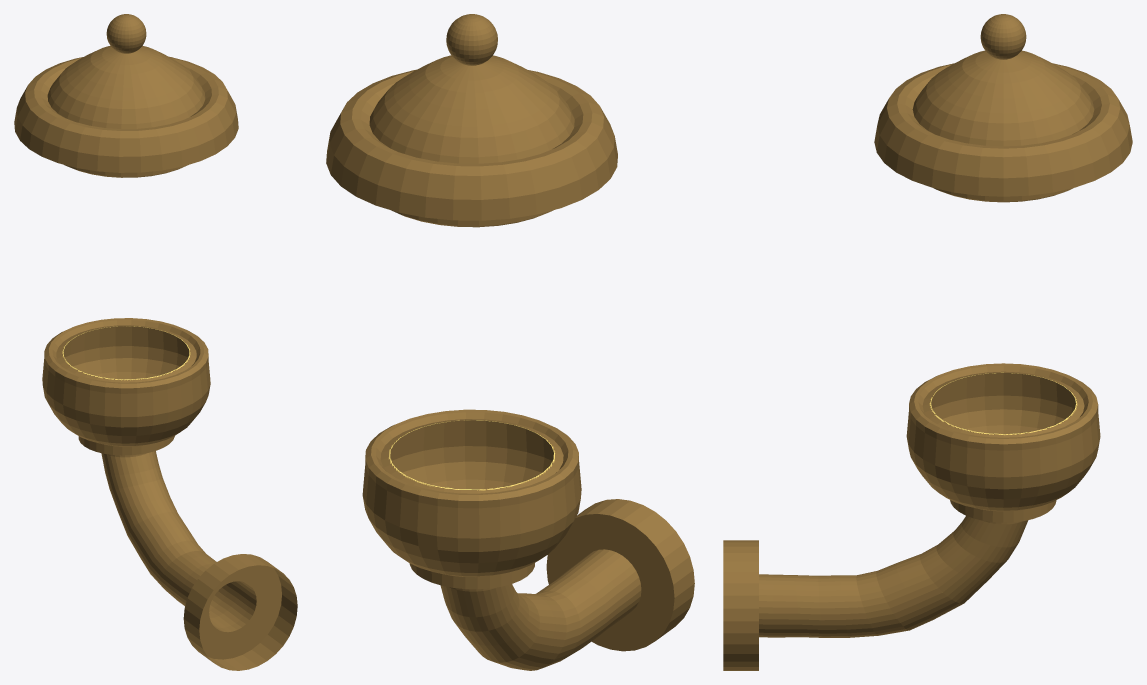
The model's file is LuzAntiga.fbx.
3 views of the same model, side by side, from view 1: azimuth 30°, elevation 25°; view 2: azimuth 150°, elevation 25°; view 3: azimuth 270°, elevation 25° (orthographic). The views are drawn at different scales.
Parts seen in each view (by area): view 1: LuzAntiga; view 2: LuzAntiga; view 3: LuzAntiga.
Boxes of the visible parts, <box> form: LuzAntiga: <box>14,14,297,670</box>; LuzAntiga: <box>326,14,694,670</box>; LuzAntiga: <box>723,14,1132,670</box>.
Bounding box in the file's own units: 114 × 316 × 181.
